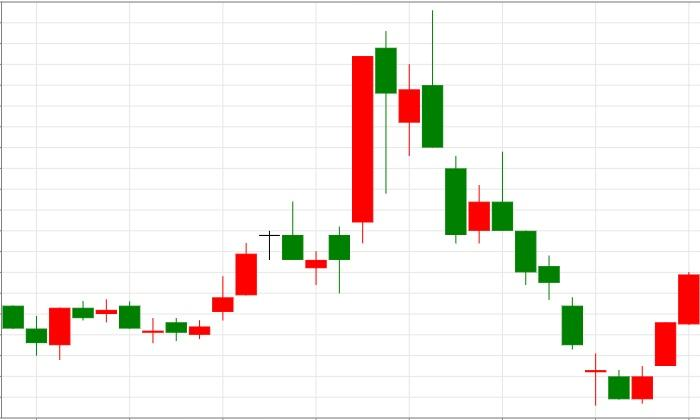three_white_soldiers_rise: (422, 9, 700, 406)
